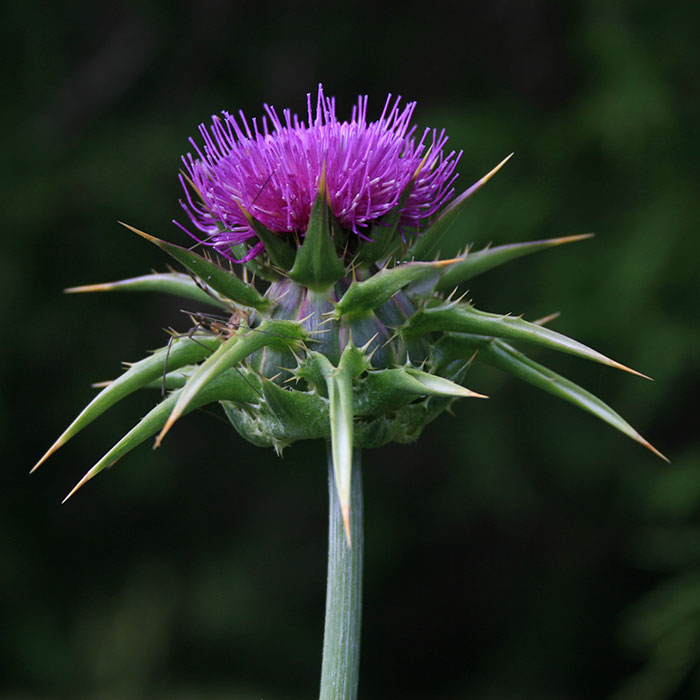thistle: (138, 95, 594, 464)
